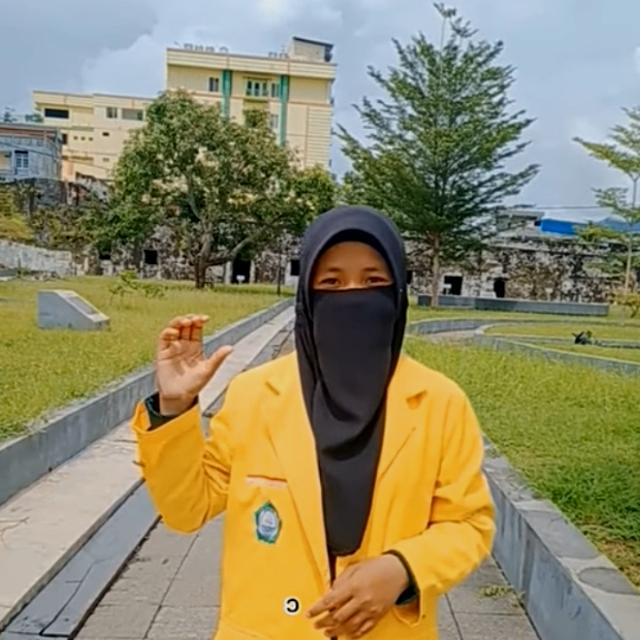C: (151, 310, 233, 410)
